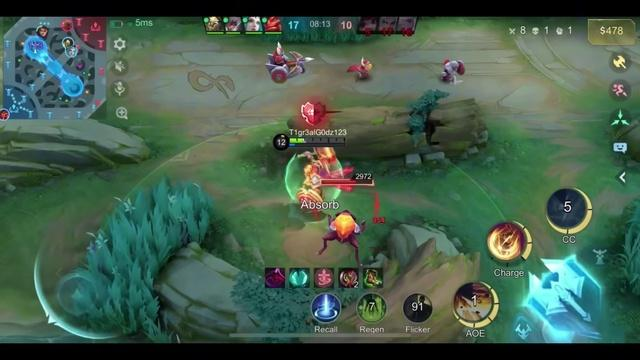bush: (61, 178, 210, 339), (621, 204, 640, 295)
hp_self: (288, 137, 346, 142)
minion_enemy: (267, 44, 311, 83), (442, 59, 464, 84), (347, 58, 372, 79)
